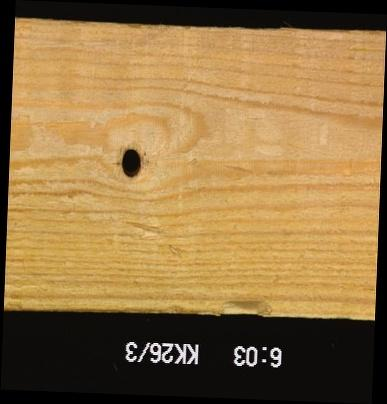wave: (214, 294, 276, 316)
